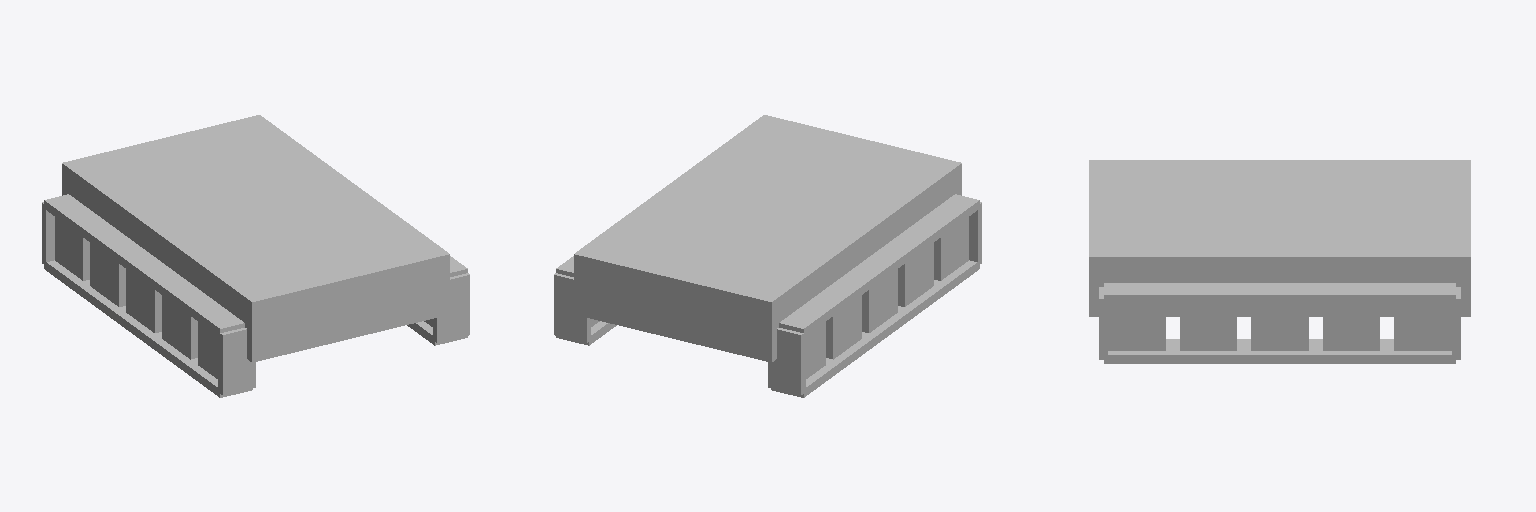
File: mrbudger_tank.obj
The picture shows the model from 3 angles: view 1: azimuth 30°, elevation 25°; view 2: azimuth 150°, elevation 25°; view 3: azimuth 270°, elevation 25°; orthographic projection.
Visible parts, largest first — view 1: cube, cube16, cube15, cube17, cube8, wr3, wr2, wr1, wr4, wr0, cube18; view 2: cube, cube16, cube15, cube18, cube9, wr1, wr2, wr3, wr0, wr4, cube17; view 3: cube, cube7, cube6, wl0, wl2, wl4, wl1, wl3, cube9, cube8.
Part boxes in pixels (bbox=[...]): cube: bbox=[62, 115, 449, 362]; cube16: bbox=[44, 194, 244, 335]; cube15: bbox=[44, 260, 252, 397]; cube17: bbox=[218, 328, 255, 394]; cube8: bbox=[433, 273, 469, 342]; wr3: bbox=[90, 243, 125, 306]; wr2: bbox=[126, 269, 161, 332]; wr1: bbox=[162, 295, 197, 359]; wr4: bbox=[55, 217, 89, 280]; wr0: bbox=[198, 322, 217, 378]; cube18: bbox=[42, 202, 54, 265]; cube: bbox=[574, 115, 961, 362]; cube16: bbox=[779, 194, 979, 336]; cube15: bbox=[771, 260, 979, 397]; cube18: bbox=[768, 328, 805, 394]; cube9: bbox=[554, 273, 590, 342]; wr1: bbox=[898, 243, 933, 306]; wr2: bbox=[862, 269, 897, 332]; wr3: bbox=[826, 295, 861, 359]; wr0: bbox=[934, 217, 968, 280]; wr4: bbox=[806, 322, 825, 378]; cube17: bbox=[969, 202, 981, 265]; cube: bbox=[1089, 160, 1470, 316]; cube7: bbox=[1104, 283, 1455, 302]; cube6: bbox=[1104, 339, 1455, 363]; wl0: bbox=[1108, 303, 1165, 350]; wl2: bbox=[1251, 303, 1308, 350]; wl4: bbox=[1394, 303, 1451, 350]; wl1: bbox=[1180, 303, 1236, 350]; wl3: bbox=[1323, 303, 1379, 350]; cube9: bbox=[1452, 287, 1460, 359]; cube8: bbox=[1099, 287, 1107, 359].
Bounding box in the file's own units: 3.75 × 1.38 × 5.